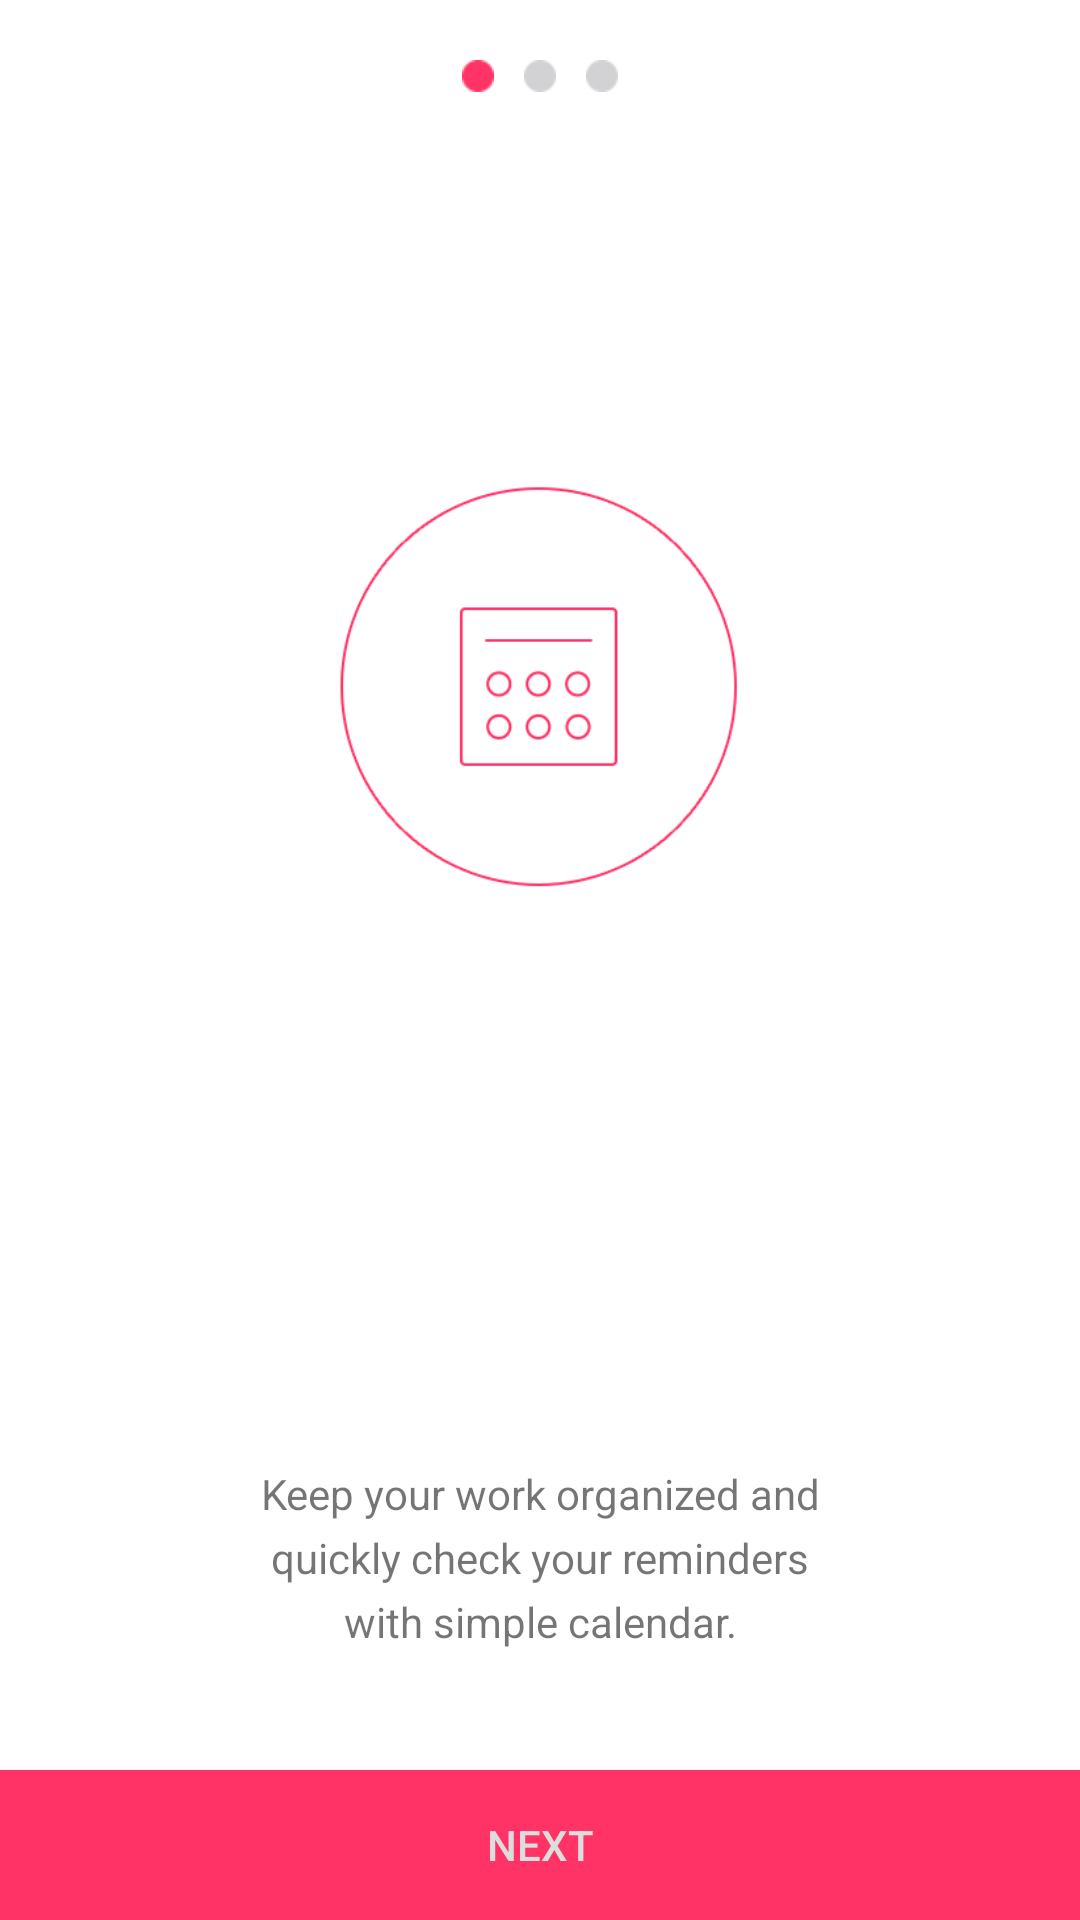

Where to tap for icons on this 1080x1920 app screen, as (x=x, y=y):
page dot: (x=478, y=76)
